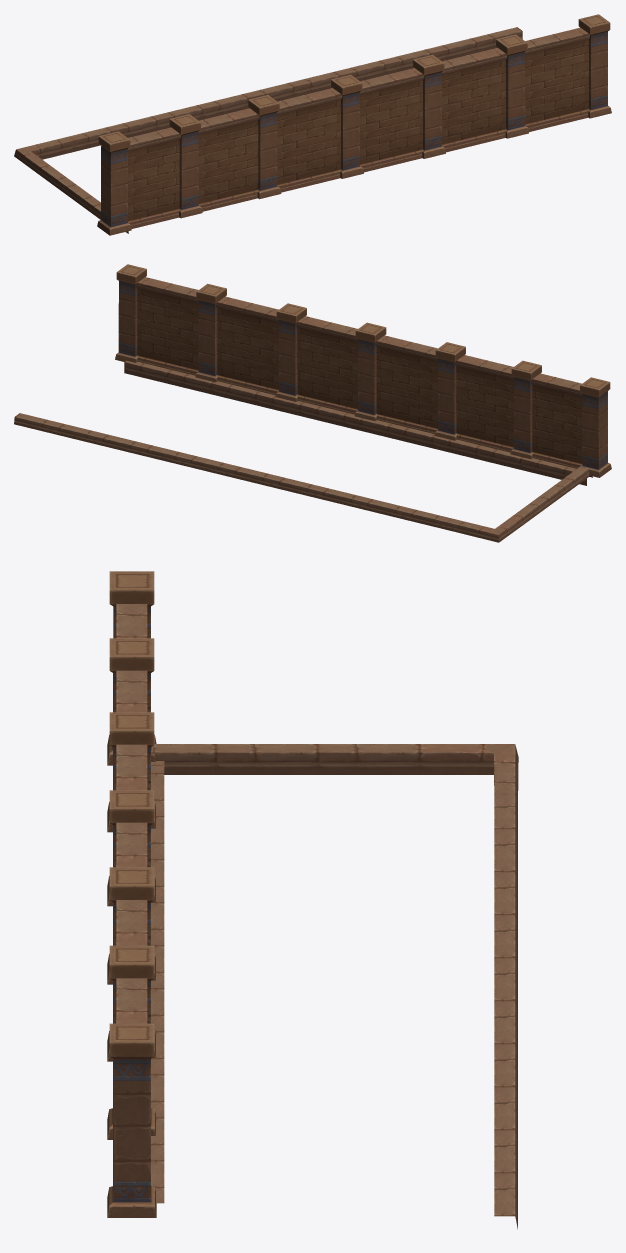
Rendered from Area_06_14.fbx.
The picture shows the model from 3 angles, top to bottom: view 1: azimuth 30°, elevation 25°; view 2: azimuth 150°, elevation 25°; view 3: azimuth 270°, elevation 25°; orthographic projection. The views are drawn at different scales.
Visible parts, largest first — view 1: Area_06_14; view 2: Area_06_14; view 3: Area_06_14.
Boxes of the visible parts, bbox=[...] form: Area_06_14: bbox=[14, 14, 611, 235]; Area_06_14: bbox=[14, 264, 611, 542]; Area_06_14: bbox=[107, 571, 518, 1229].
Bounding box in the file's own units: 2926 × 544 × 1051.
